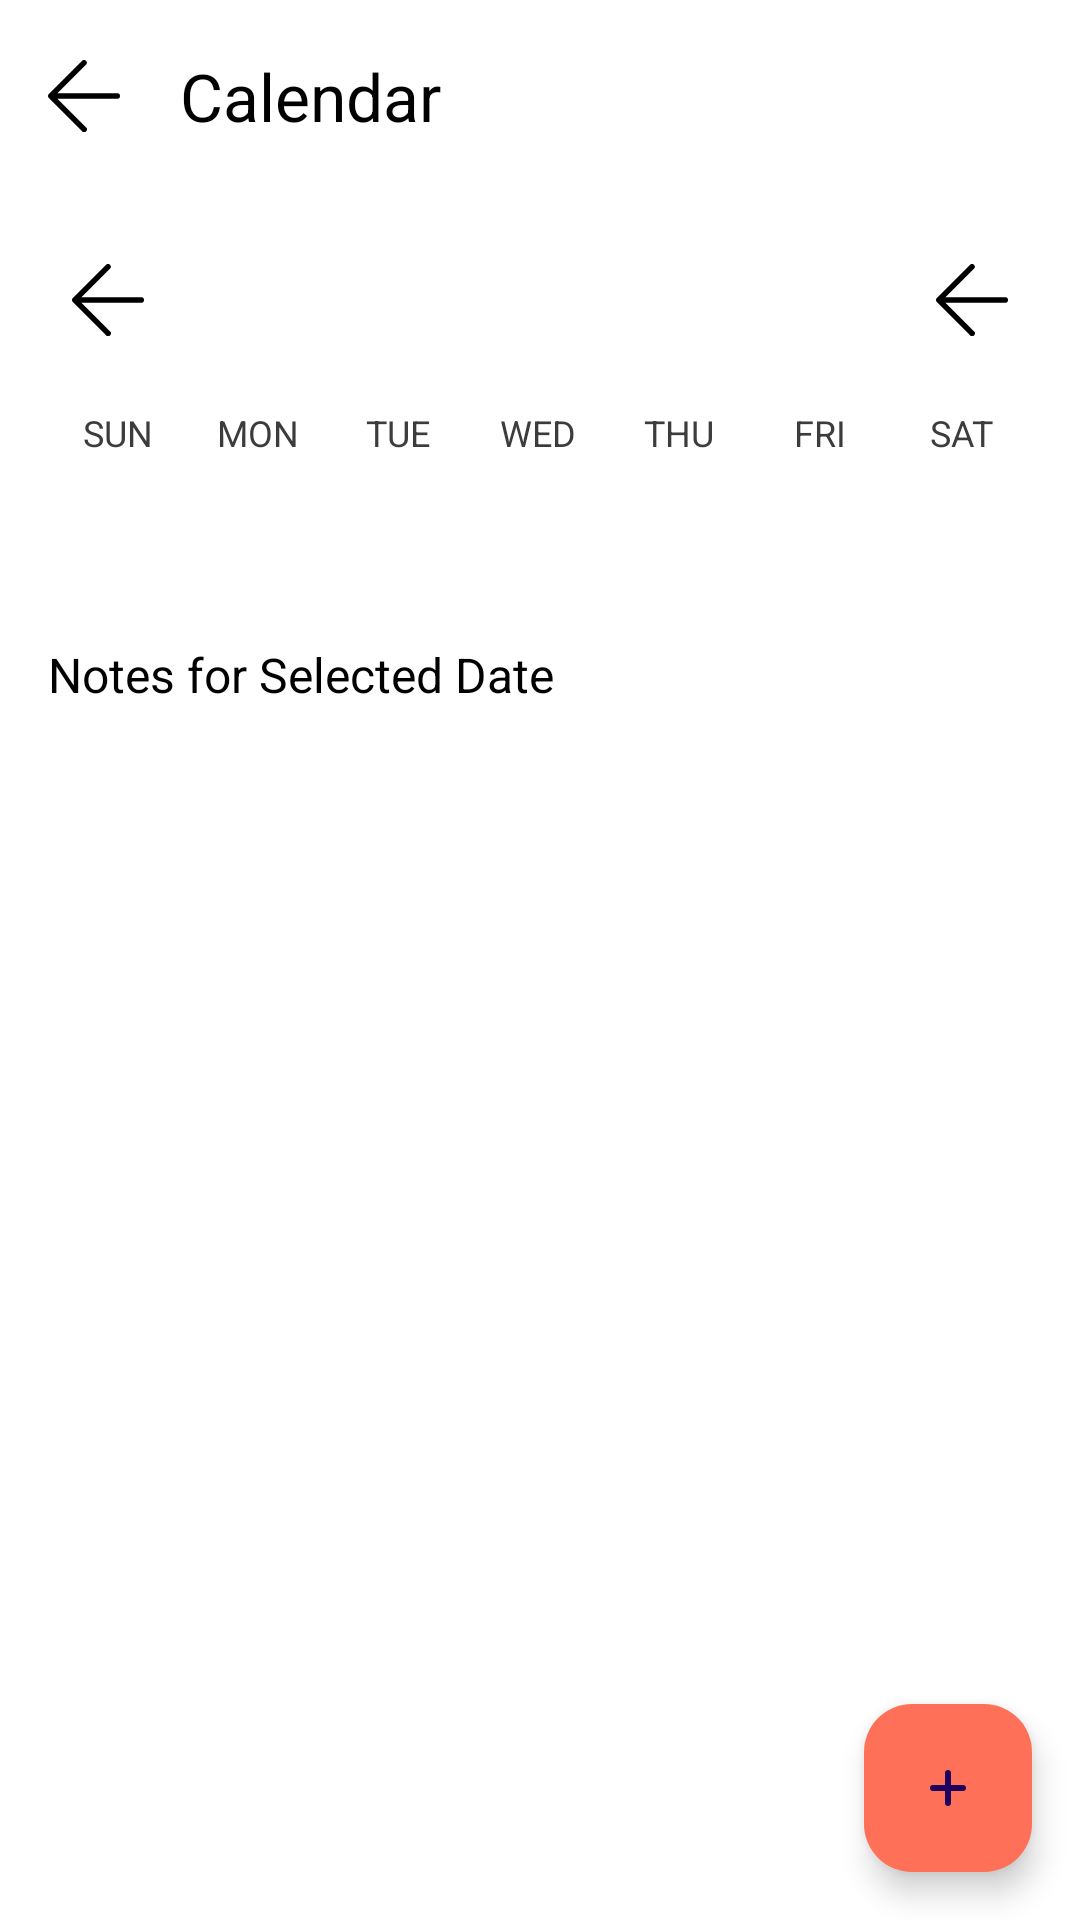

Icons on this 1080x1920 Android screen, each with its box as {"left": x1, "top": y1, "right": x2, "bottom": y2}:
Add note for this date: {"left": 864, "top": 1704, "right": 1032, "bottom": 1872}
Previous month: {"left": 72, "top": 264, "right": 144, "bottom": 336}
